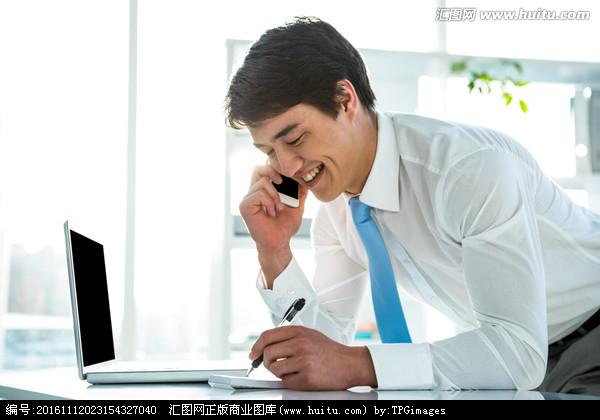calling: (235, 155, 308, 249)
no-phone: (243, 295, 361, 392)
